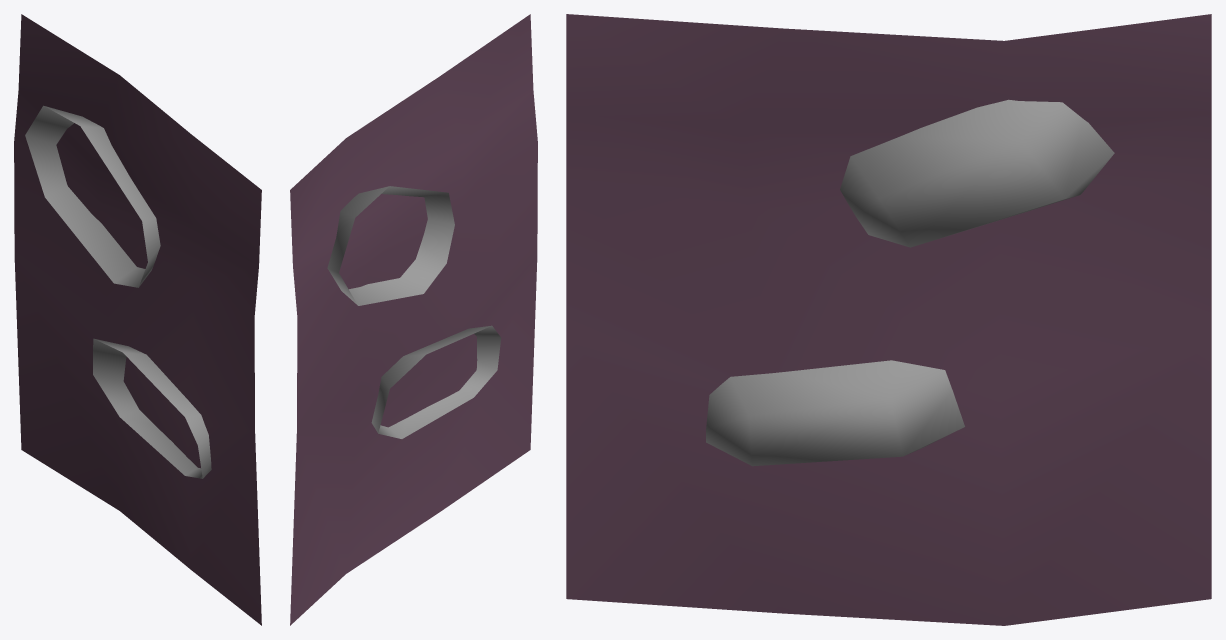
File: forest_ledge-side-x1.fbx
3 renders of one model, left to right at view 1: azimuth 30°, elevation 25°; view 2: azimuth 150°, elevation 25°; view 3: azimuth 270°, elevation 25°, orthographic. The views are drawn at different scales.
Parts seen in each view (by area): view 1: forest_ledge_01-x1-wall; view 2: forest_ledge_01-x1-wall; view 3: forest_ledge_01-x1-wall.
Boxes of the visible parts, x1,y1,x2,y2 form: forest_ledge_01-x1-wall: (14, 14, 261, 625); forest_ledge_01-x1-wall: (290, 14, 537, 625); forest_ledge_01-x1-wall: (566, 14, 1211, 625).
Bounding box in the file's own units: 16.59 × 102 × 100.
